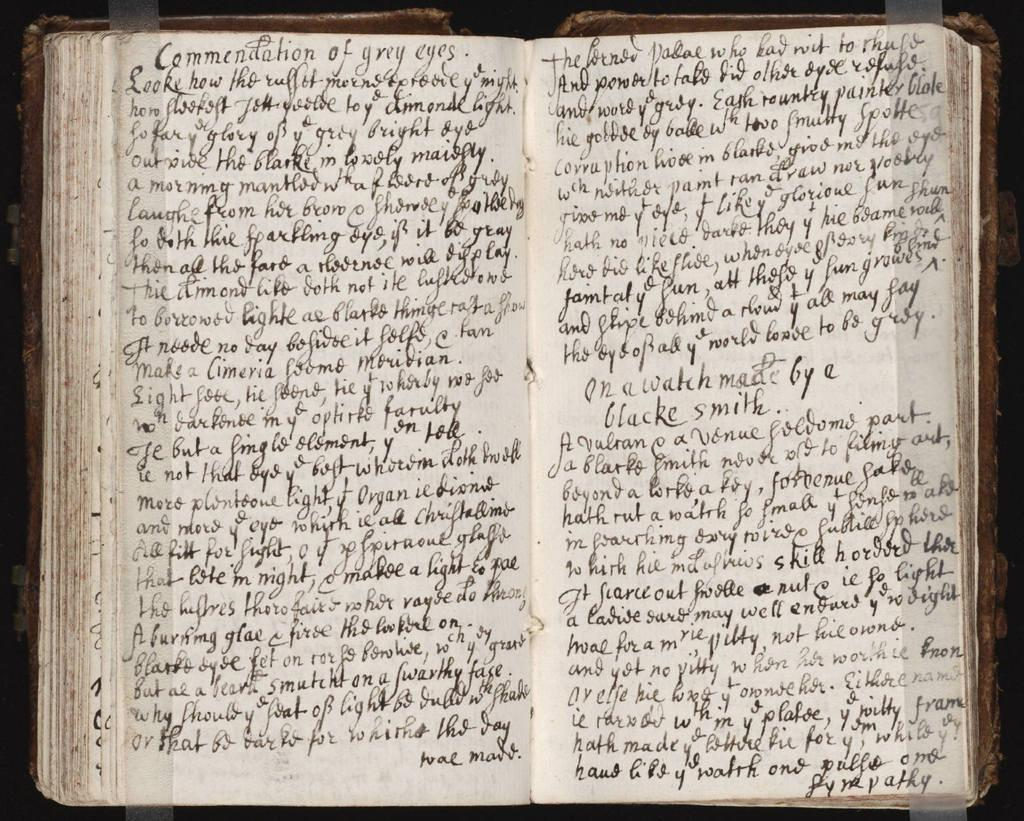book: (62, 15, 1018, 804)
